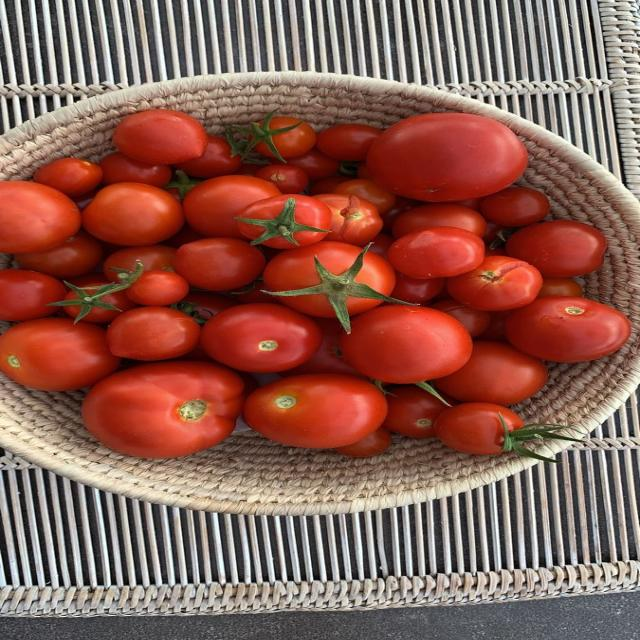tomato: (83, 362, 242, 458), (367, 114, 527, 201), (244, 374, 386, 448), (341, 306, 472, 383), (0, 318, 120, 390), (201, 304, 321, 372), (506, 297, 631, 362), (437, 341, 548, 405), (82, 183, 183, 245), (183, 175, 280, 238), (0, 181, 80, 253), (507, 220, 606, 277), (237, 194, 331, 249), (448, 256, 542, 310), (113, 110, 207, 164), (107, 307, 200, 360), (388, 227, 484, 278), (174, 238, 265, 291), (279, 318, 362, 376), (263, 242, 360, 291), (436, 403, 524, 454), (15, 231, 103, 279), (315, 194, 383, 245), (0, 269, 66, 321), (384, 385, 446, 437), (393, 204, 486, 237), (176, 135, 241, 178), (481, 187, 549, 227), (34, 158, 102, 197), (104, 245, 176, 281), (100, 152, 171, 187), (316, 124, 382, 161), (126, 270, 189, 306), (431, 300, 491, 337), (261, 117, 315, 158), (334, 179, 395, 214), (80, 291, 136, 323), (335, 428, 391, 457), (391, 273, 445, 303), (287, 149, 339, 180), (183, 291, 237, 320), (256, 164, 309, 193), (382, 196, 420, 233), (231, 280, 281, 303), (477, 311, 510, 342), (538, 278, 583, 298), (165, 226, 202, 249), (310, 176, 352, 195), (369, 234, 394, 259), (66, 272, 106, 287), (235, 372, 259, 397), (482, 221, 508, 244), (73, 189, 98, 211), (451, 198, 483, 211), (234, 162, 261, 176), (357, 162, 372, 179), (485, 247, 506, 257)
